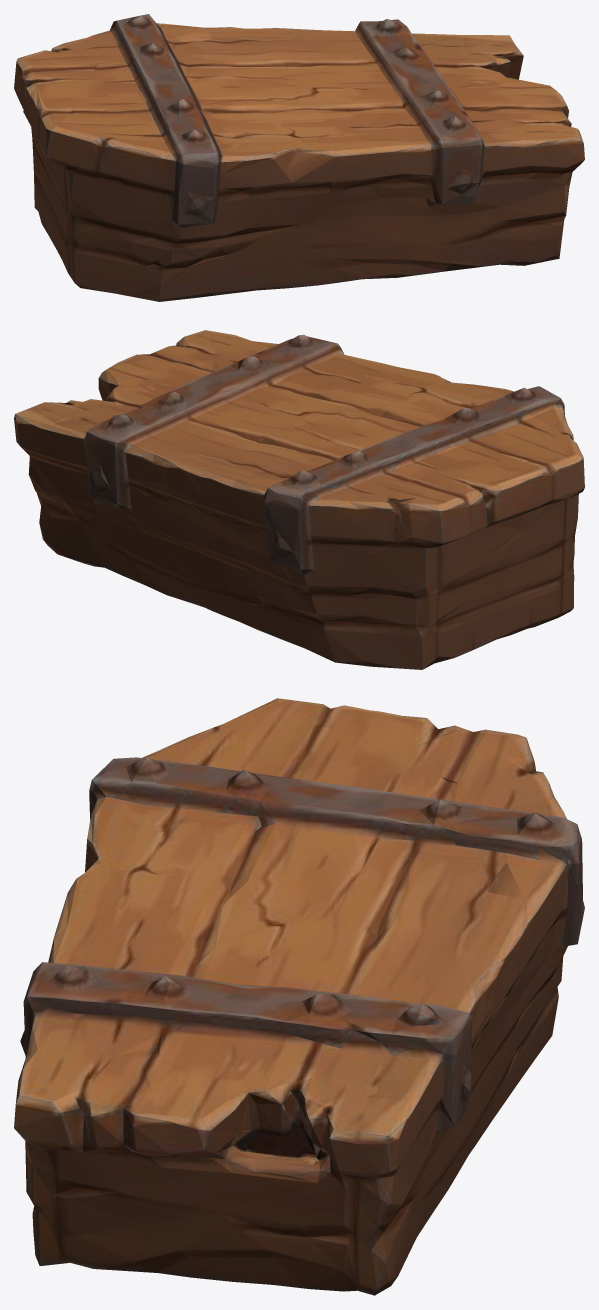
The model's file is coffin_lid.glb.
3 views of the same model, one above another, from view 1: azimuth 30°, elevation 25°; view 2: azimuth 150°, elevation 25°; view 3: azimuth 270°, elevation 25° (orthographic). The views are drawn at different scales.
Visible parts, largest first — view 1: tripo_node_17122f09-c7c5-4e53-b3cd-5e16dd2c0b01.001; view 2: tripo_node_17122f09-c7c5-4e53-b3cd-5e16dd2c0b01.001; view 3: tripo_node_17122f09-c7c5-4e53-b3cd-5e16dd2c0b01.001.
Part boxes in pixels (x1=…): tripo_node_17122f09-c7c5-4e53-b3cd-5e16dd2c0b01.001: x1=14, y1=14, x2=584, y2=301; tripo_node_17122f09-c7c5-4e53-b3cd-5e16dd2c0b01.001: x1=14, y1=330, x2=584, y2=669; tripo_node_17122f09-c7c5-4e53-b3cd-5e16dd2c0b01.001: x1=14, y1=698, x2=584, y2=1295.
Size of the model in its own units: 0.9776 by 0.3448 by 0.6511.
Materials: 1 (1 with a texture image).
